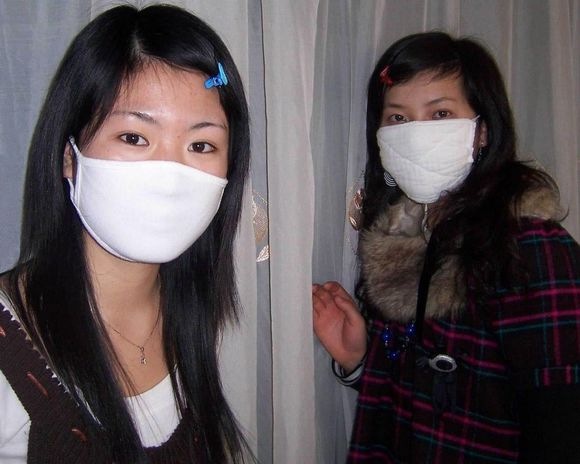face_mask: (74, 65, 230, 256), (378, 71, 479, 199)
